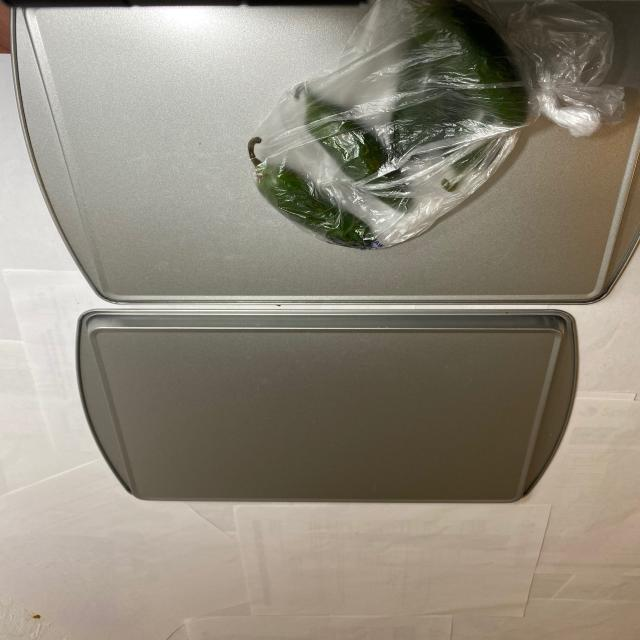chilli: (250, 3, 549, 250)
